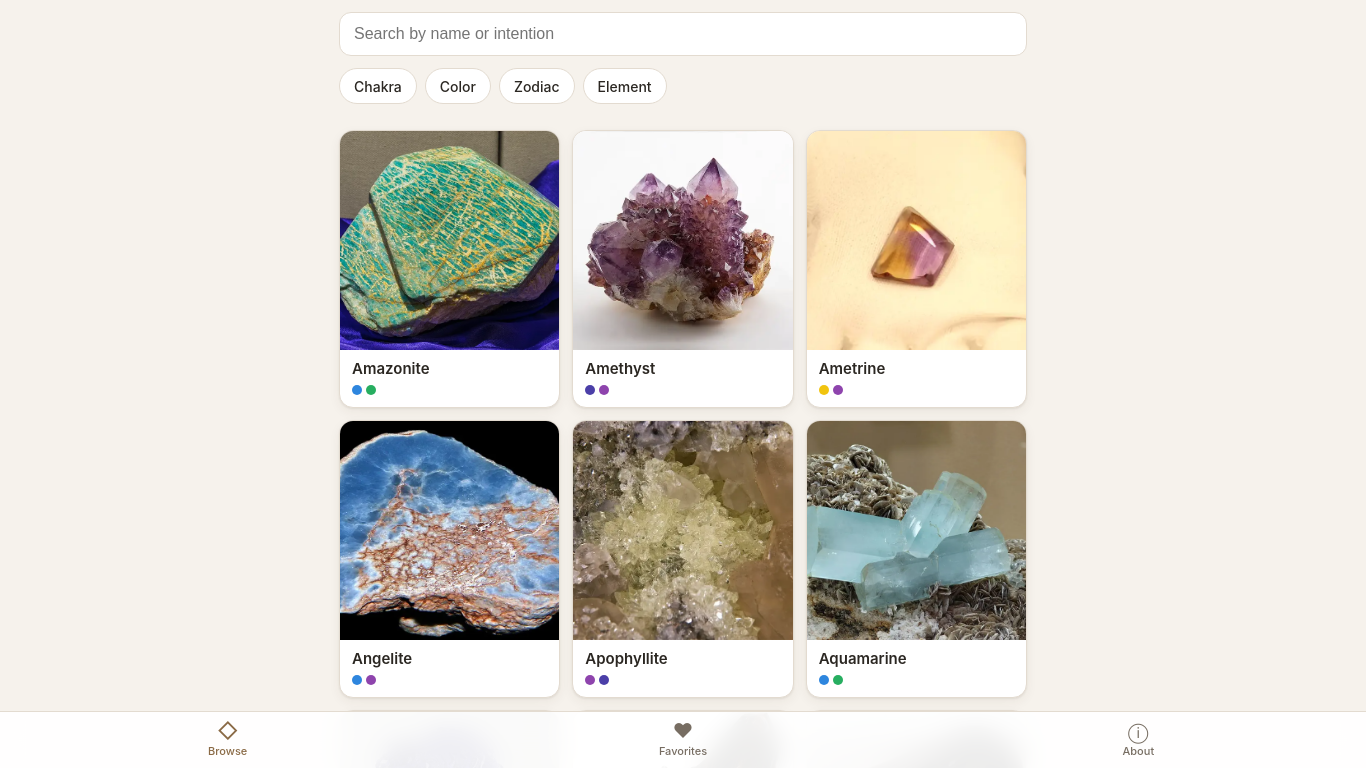
Test case: no matches shows an empty state that clears everything
The width and height of the screenshot is (1366, 768).
In the search field named "Search crystals": [683, 34] box [339, 12, 1027, 56], type "zzzz"
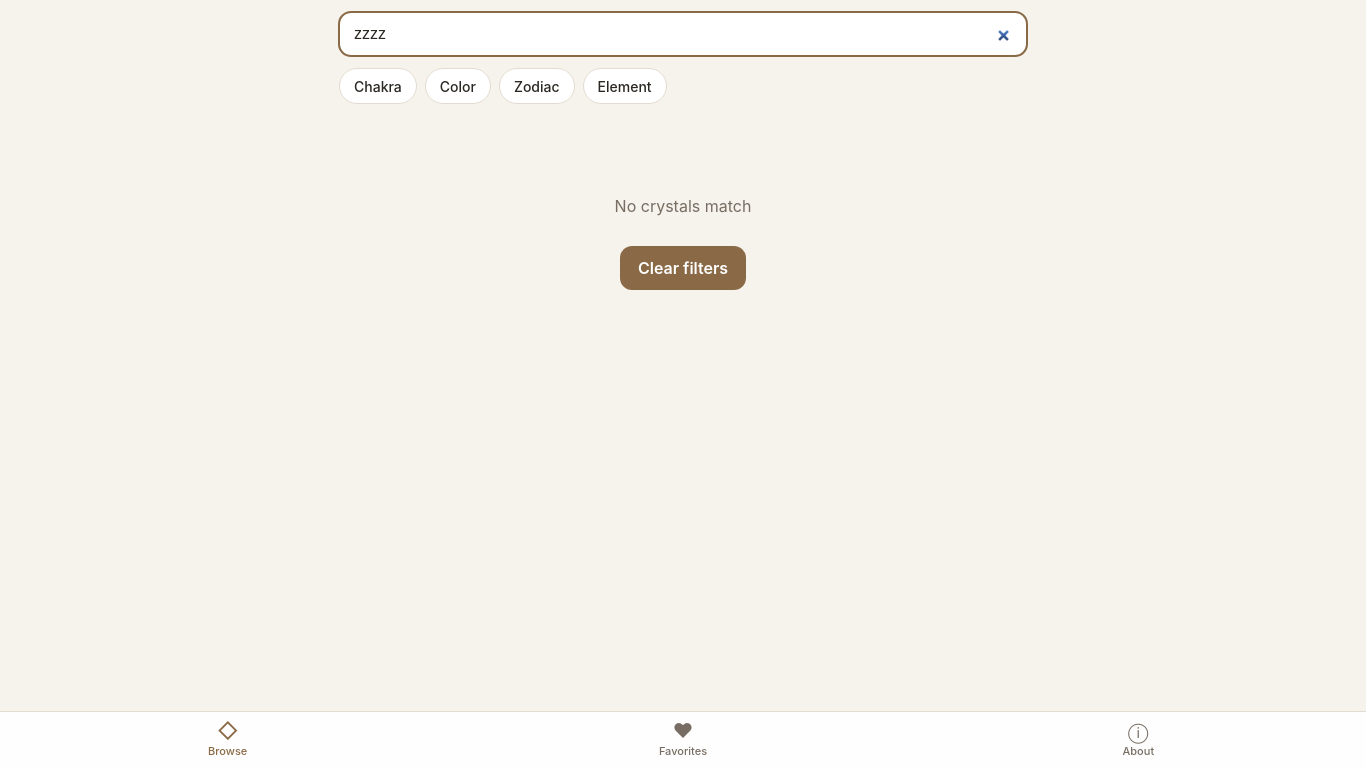
Now the text "No crystals match" is shown, box [615, 194, 751, 218]
Click the button "Clear filters": [683, 268] box [620, 246, 746, 290]
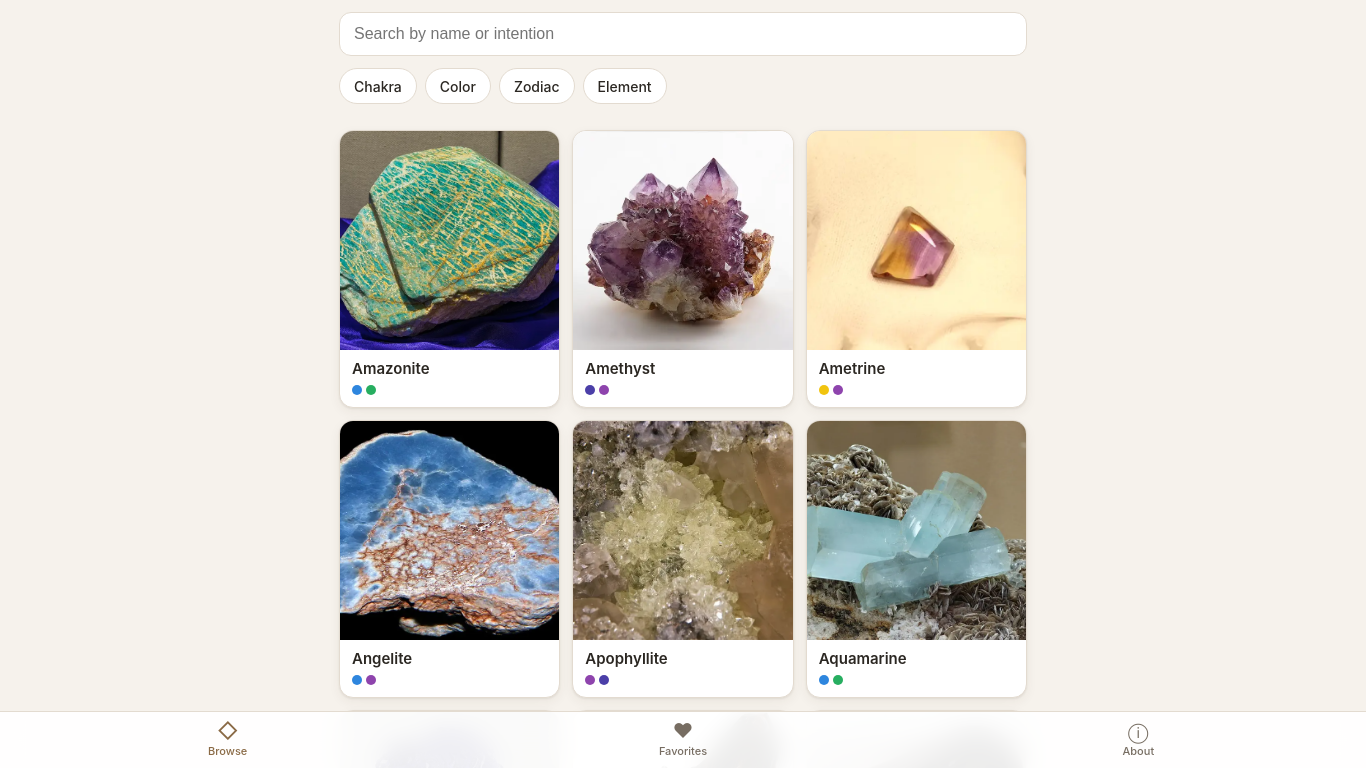
Now the search field named "Search crystals" is empty, box [339, 12, 1027, 56]
